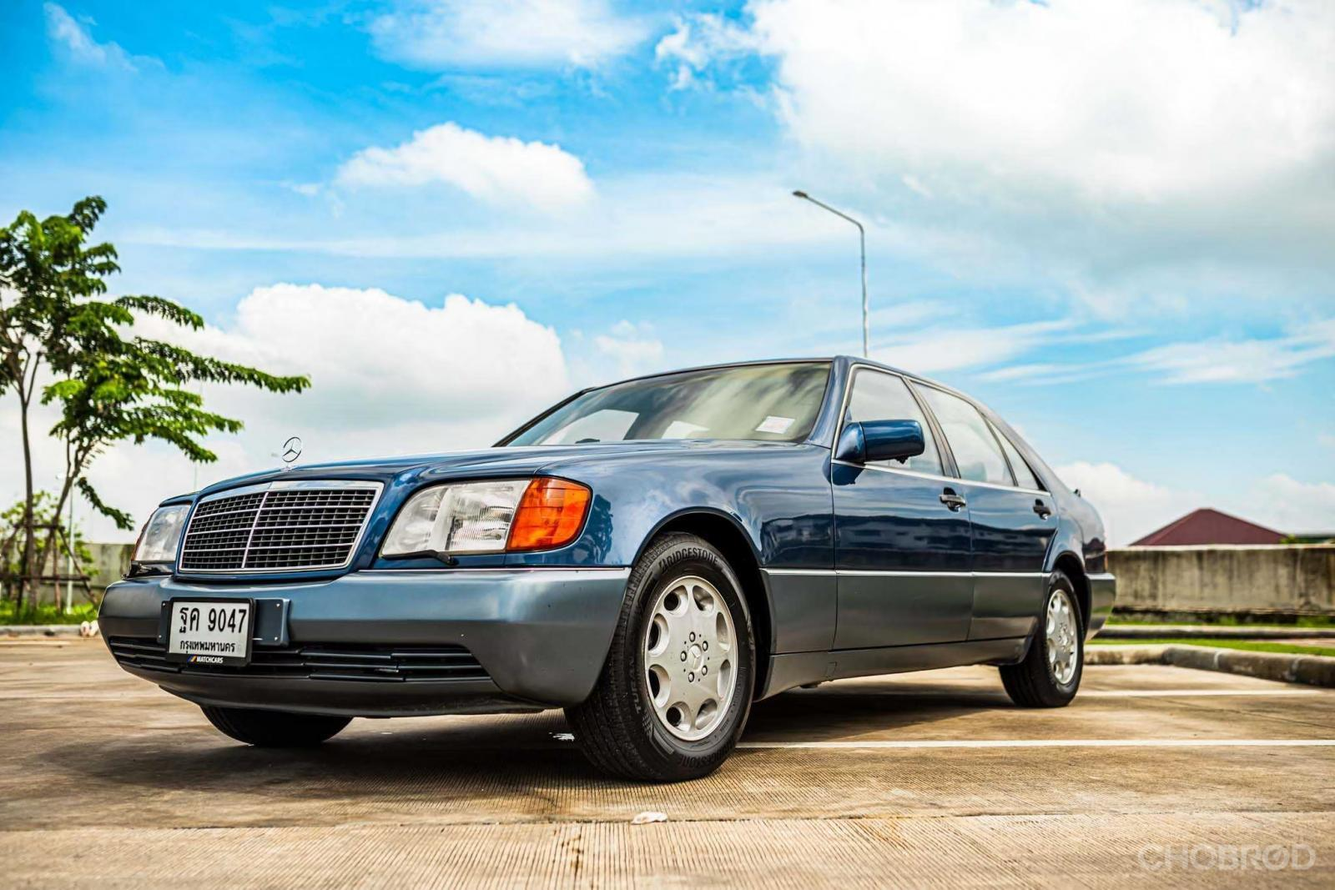license-plate: (148, 579, 261, 673)
